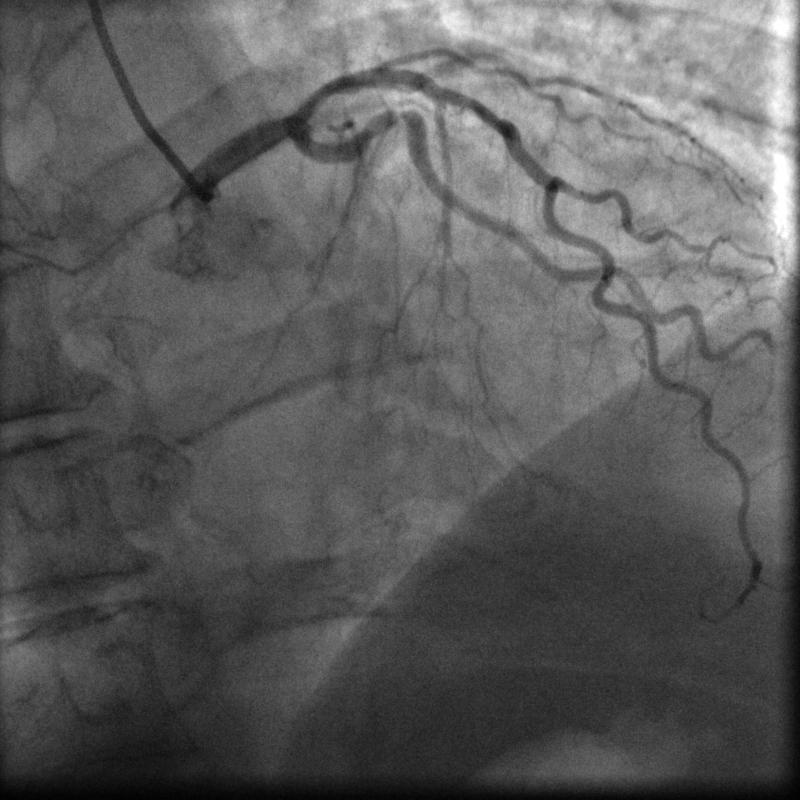Stenosis: (375, 105, 427, 131)
